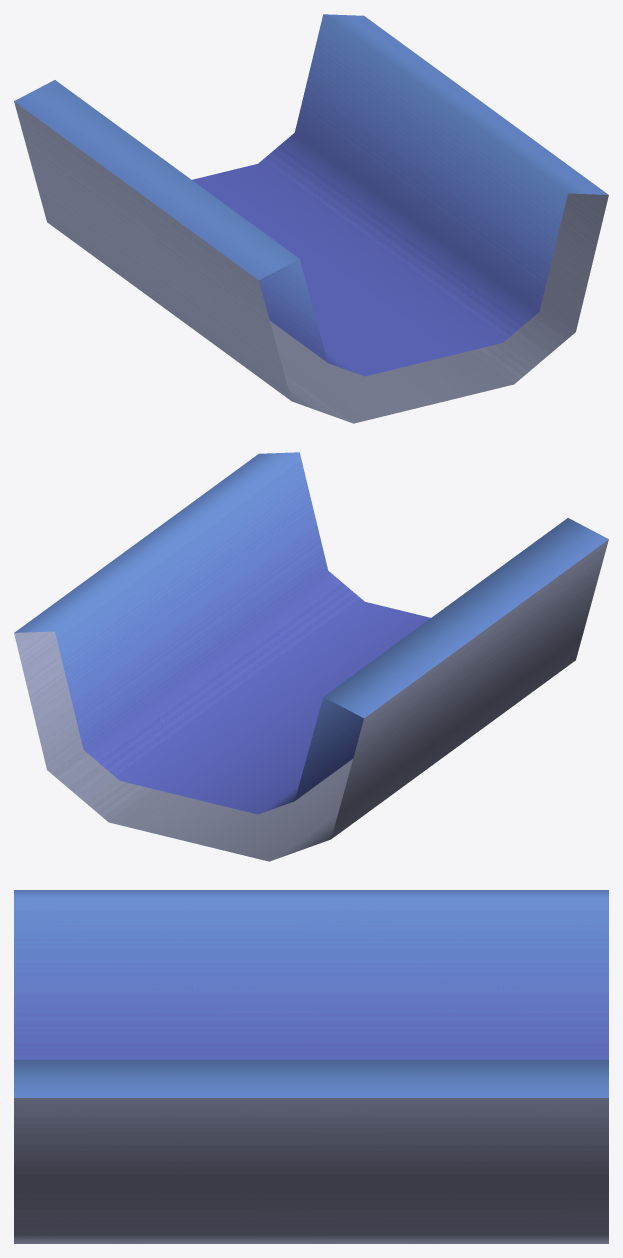
File: coaster-flume-track.glb
3 views of the same model, one above another, from view 1: azimuth 30°, elevation 25°; view 2: azimuth 150°, elevation 25°; view 3: azimuth 270°, elevation 25° (orthographic). The views are drawn at different scales.
Visible parts, largest first — view 1: coaster-flume-track; view 2: coaster-flume-track; view 3: coaster-flume-track.
Boxes of the visible parts, <box> form: coaster-flume-track: <box>14,14,608,423</box>; coaster-flume-track: <box>14,452,608,861</box>; coaster-flume-track: <box>14,890,608,1243</box>.
Size of the model in its own units: 0.826 by 0.4009 by 1.
1 material, 1 textured.
